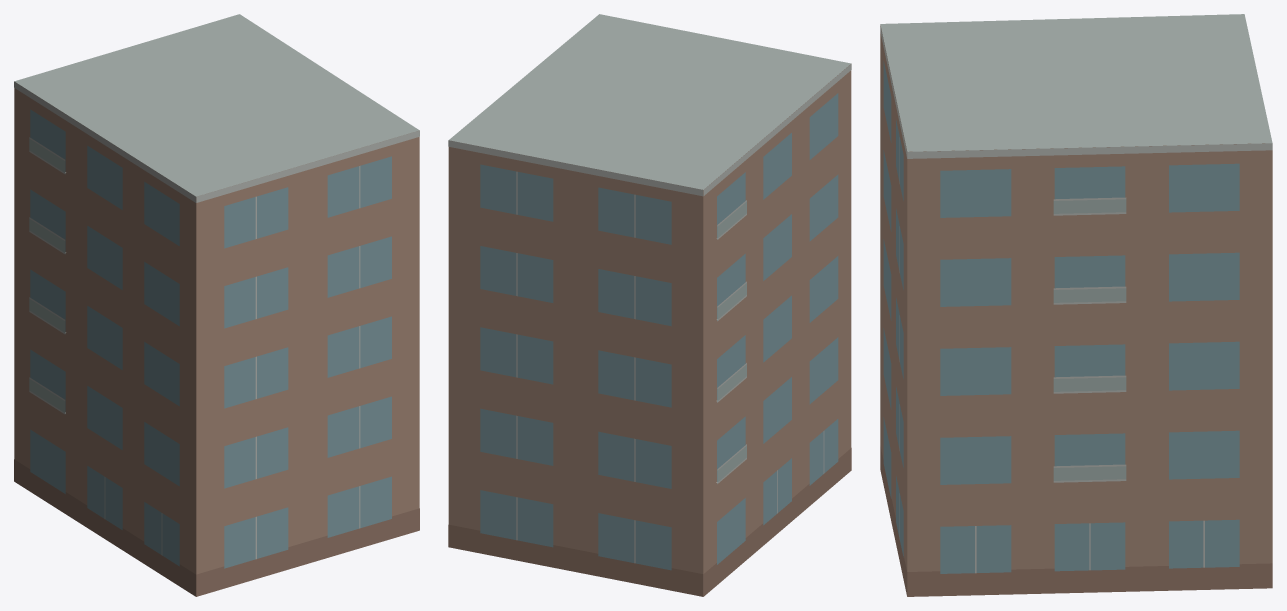
The model's file is survey-upis-32744507.glb.
3 renders of one model, left to right at view 1: azimuth 30°, elevation 25°; view 2: azimuth 150°, elevation 25°; view 3: azimuth 270°, elevation 25°, orthographic. The views are drawn at different scales.
Parts seen in each view (by area): view 1: survey-upis-32744507.tmp; view 2: survey-upis-32744507.tmp; view 3: survey-upis-32744507.tmp.
Part boxes in pixels (x1,y1,x2,y2): survey-upis-32744507.tmp: [14, 14, 419, 596]; survey-upis-32744507.tmp: [448, 14, 851, 596]; survey-upis-32744507.tmp: [880, 14, 1272, 596].
Size of the model in its own units: 10.14 by 15.25 by 12.19.
